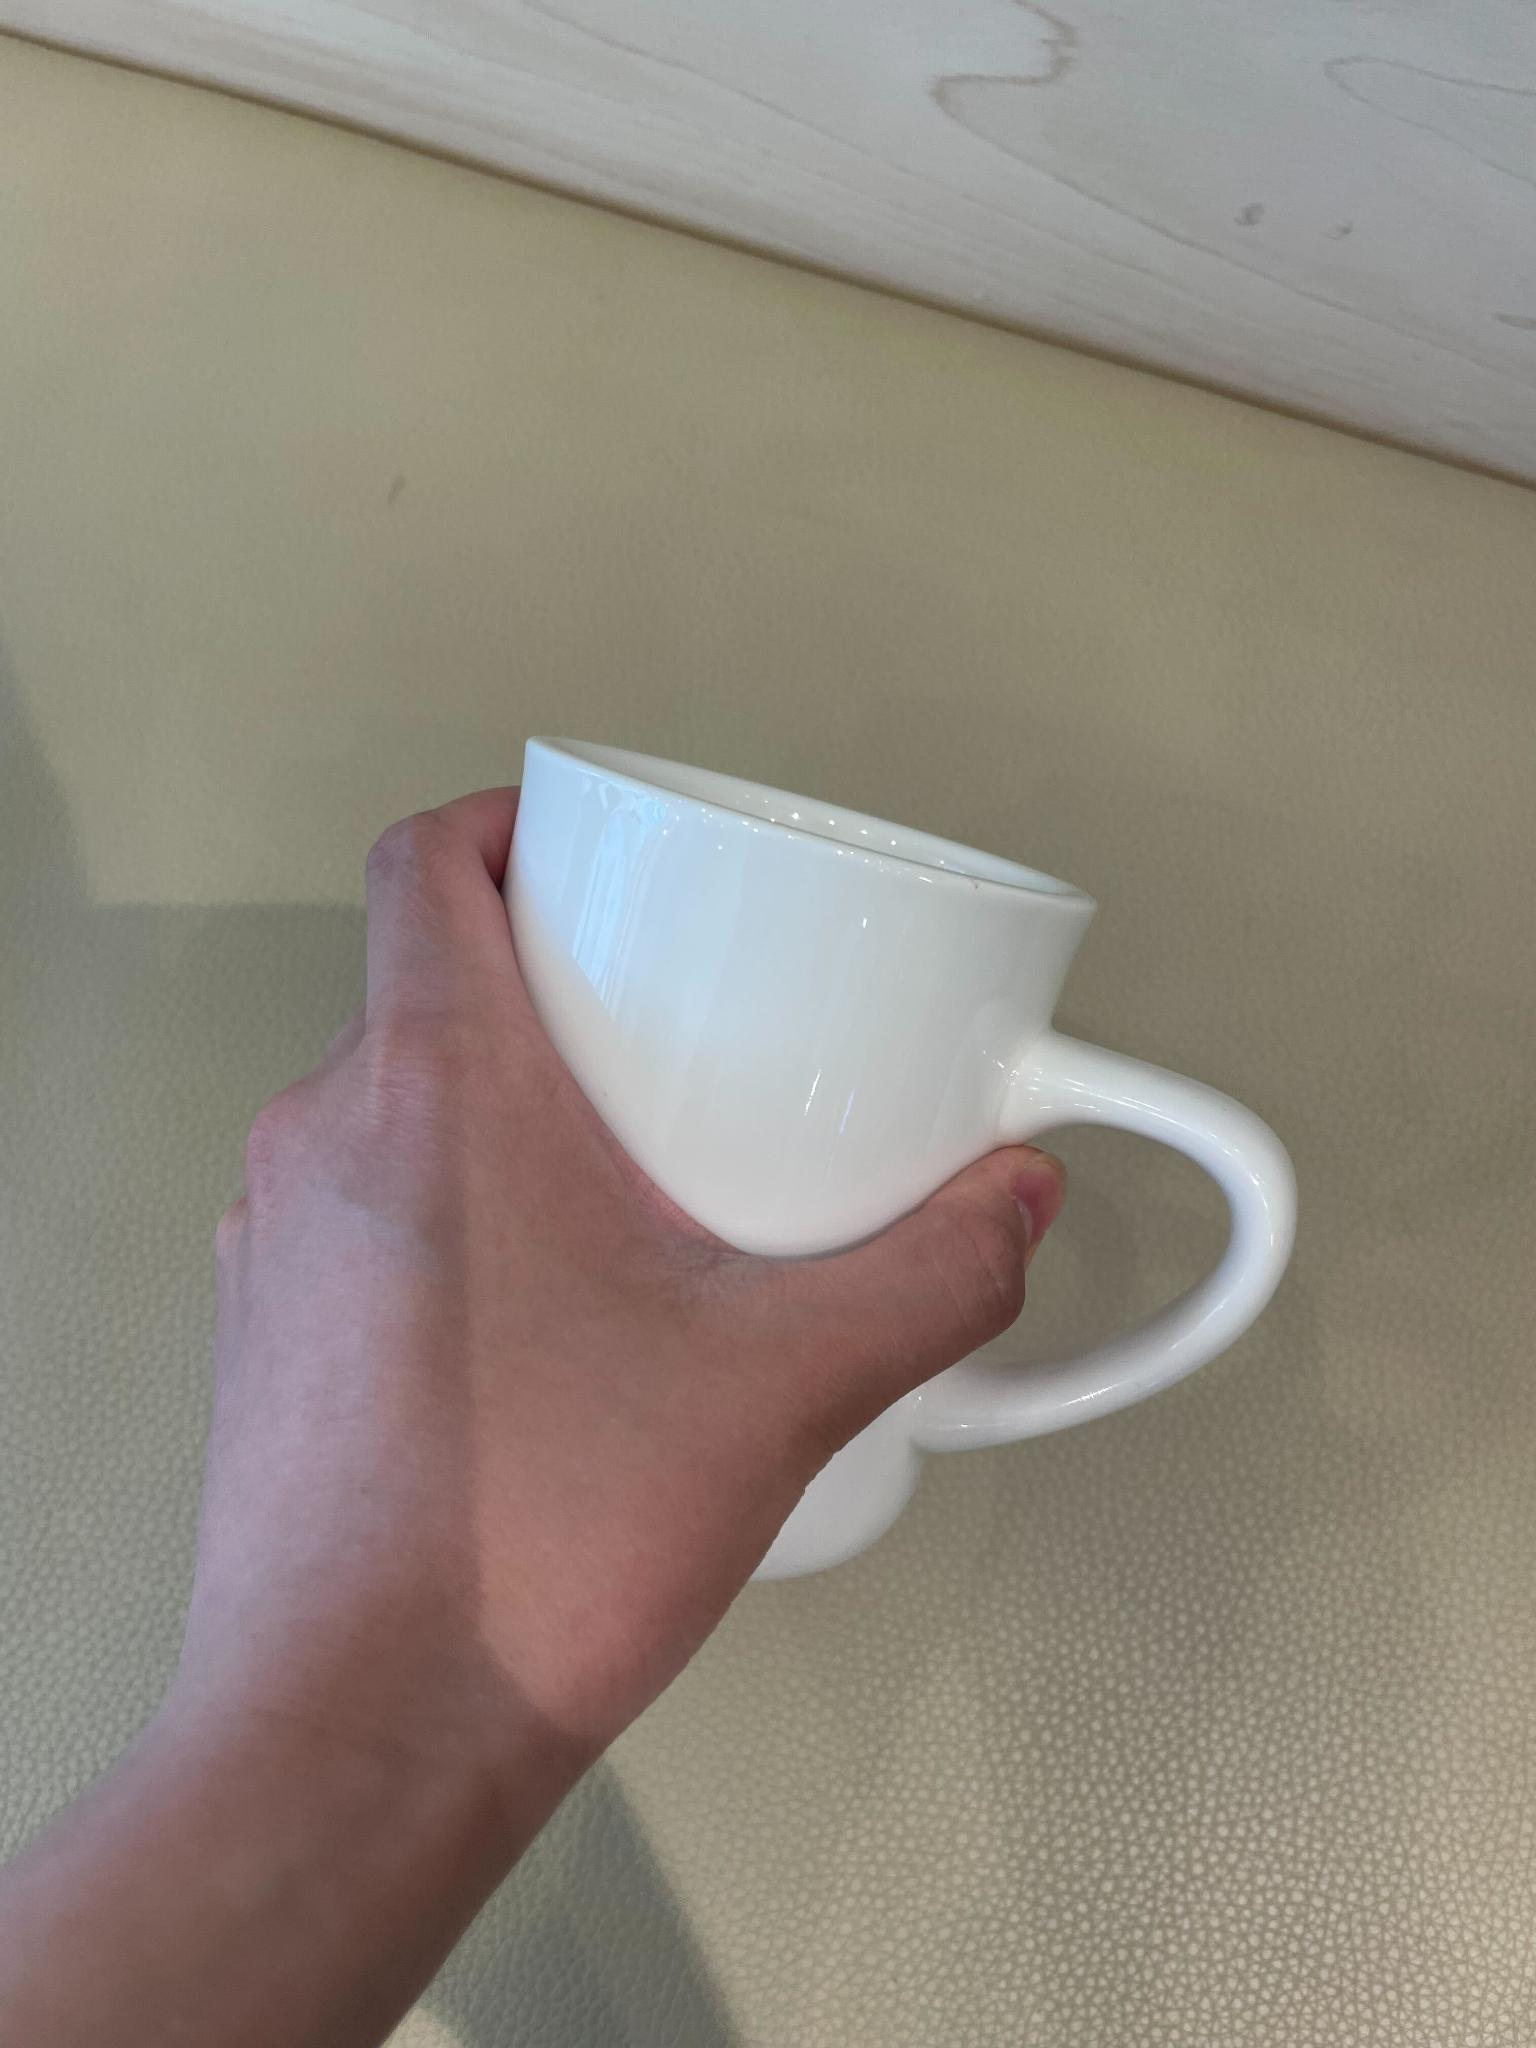cup: (198, 719, 1323, 1761)
